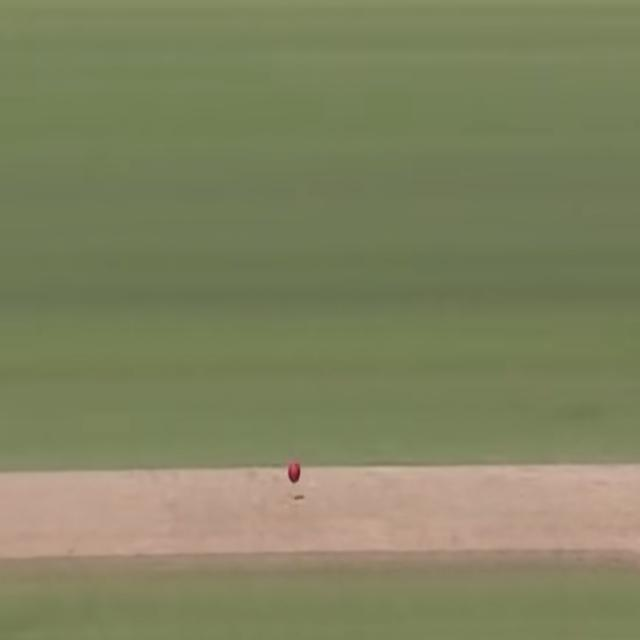ball: (286, 456, 302, 486)
